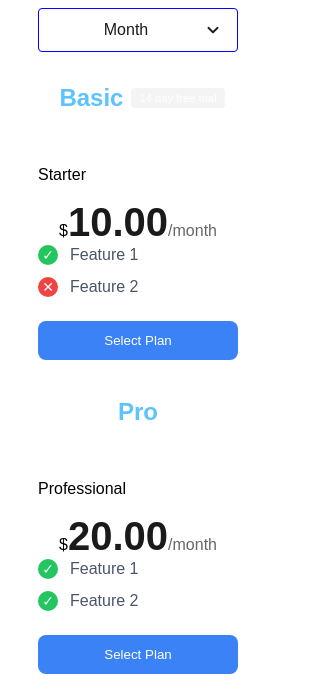
it: Product Component › handles product selection
The image size is (320, 691).
Note: Select the Basic plan
Click the button with test id "select-prod_1-Starter-month" at x=138, y=341, box [38, 321, 238, 360]
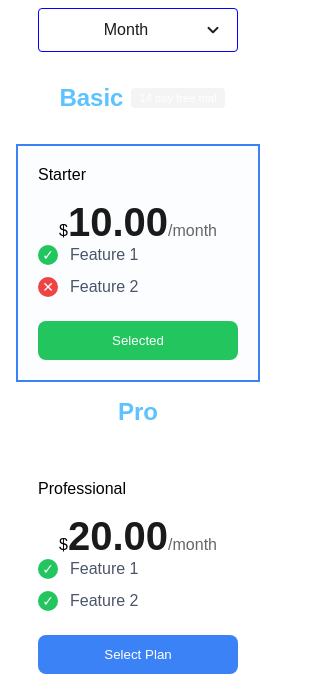
Result: the button with test id "select-prod_1-Starter-month" reads "Selected" at [38, 321, 238, 360]
